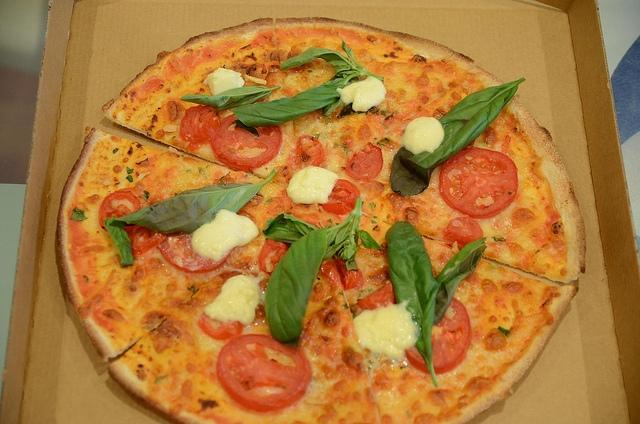tomato: (216, 334, 312, 411), (438, 147, 518, 218), (405, 298, 472, 374), (210, 114, 282, 172), (156, 232, 234, 273), (98, 190, 140, 232), (346, 142, 384, 180), (180, 105, 219, 142), (442, 217, 483, 252), (285, 134, 325, 169), (323, 180, 360, 216), (198, 312, 245, 340), (356, 279, 396, 310), (258, 238, 288, 276), (129, 229, 167, 256), (334, 259, 364, 292), (320, 256, 344, 288)
